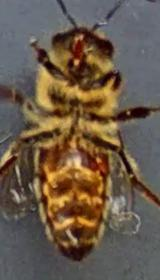varroa_mite: (85, 145, 112, 178)
